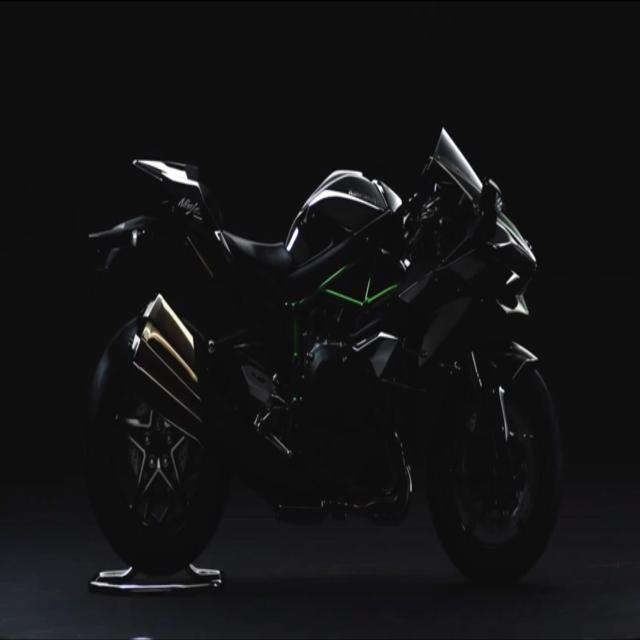Motorbike: (83, 80, 568, 598)
